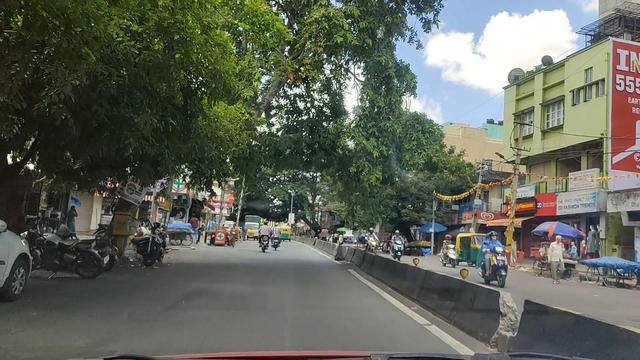RoadDamages: (10, 318, 130, 360)
